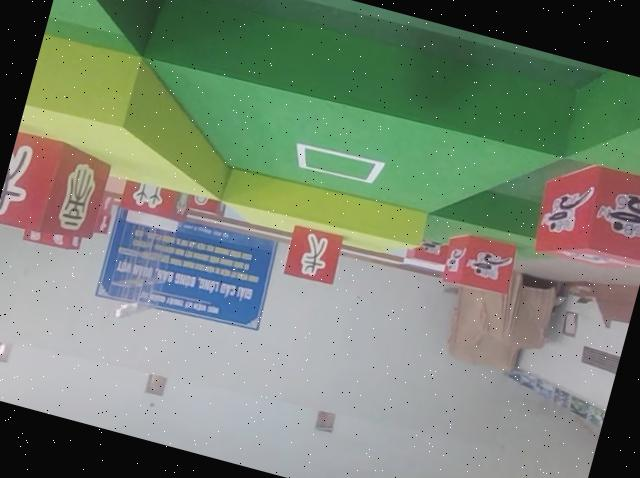R1: (529, 150, 640, 281), (439, 227, 524, 301)
R2 Fake: (0, 130, 115, 251), (282, 225, 344, 284)
